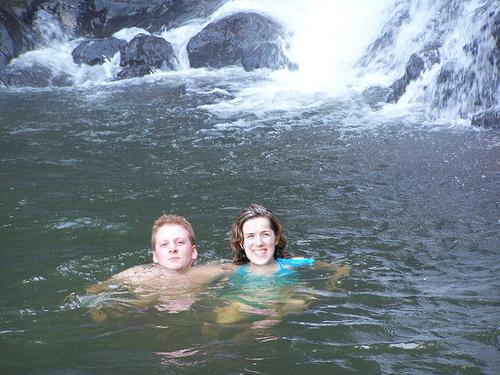swimmer: (100, 201, 226, 305), (224, 202, 326, 318)
